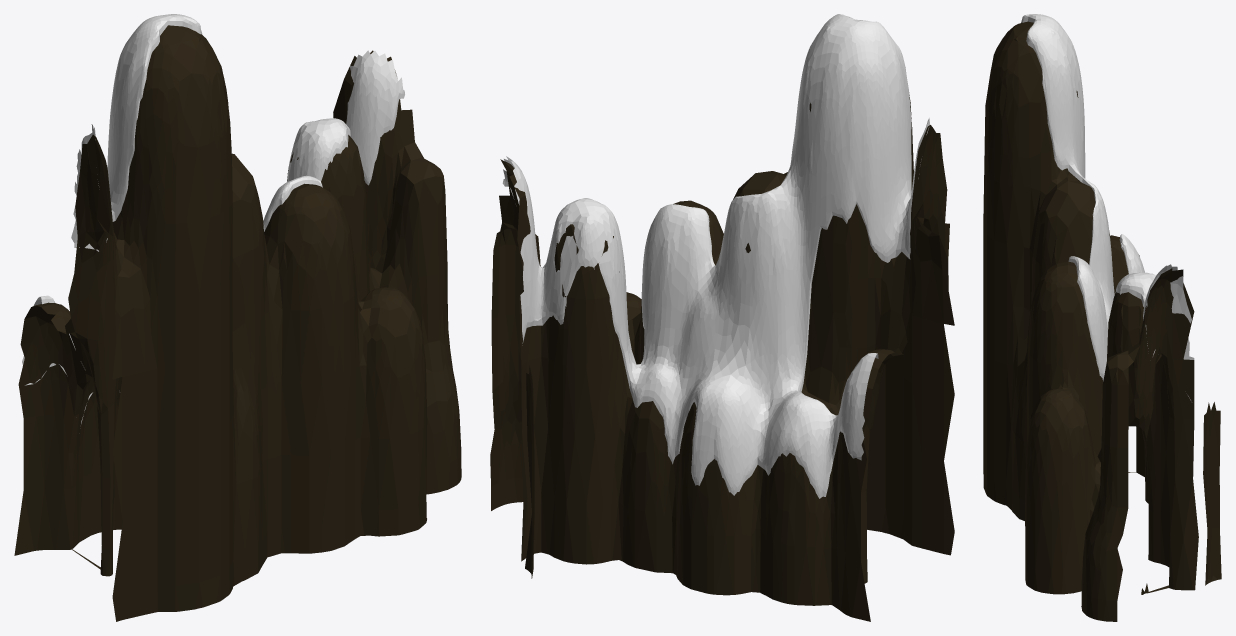
The model's file is Mtn_Wall_W0.fbx.
The picture shows the model from 3 angles, left to right: view 1: azimuth 30°, elevation 25°; view 2: azimuth 150°, elevation 25°; view 3: azimuth 270°, elevation 25°; orthographic projection. The views are drawn at different scales.
Parts seen in each view (by area): view 1: Mtn_Wall_W0; view 2: Mtn_Wall_W0; view 3: Mtn_Wall_W0.
Boxes of the visible parts, box(x1,y1,x2,y2) form: Mtn_Wall_W0: box(14, 14, 461, 621); Mtn_Wall_W0: box(490, 14, 954, 621); Mtn_Wall_W0: box(983, 14, 1221, 621).
Bounding box in the file's own units: 20092 × 25861 × 11934.
